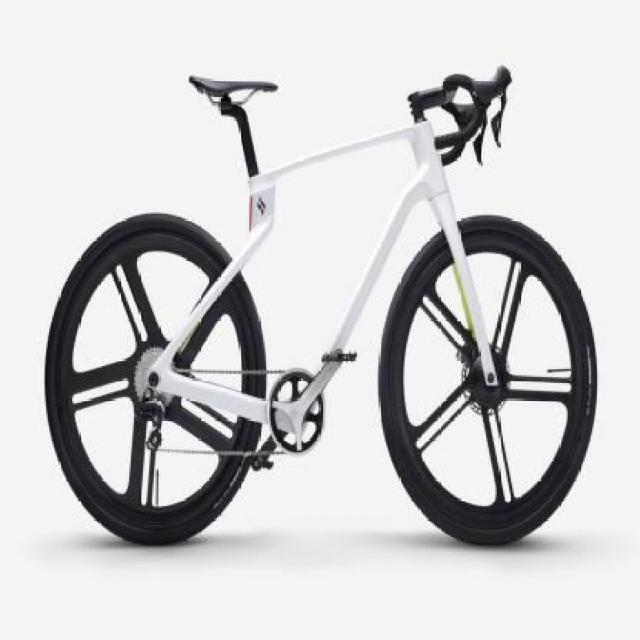bicycle: (41, 49, 601, 549)
